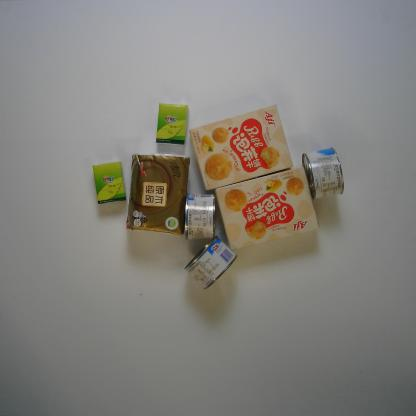Canned Food: (184, 235, 240, 291), (302, 145, 345, 202), (182, 191, 216, 242)
Dessert: (190, 103, 294, 193), (214, 164, 322, 250)
Tissue: (124, 153, 192, 236), (154, 102, 192, 147), (92, 160, 126, 206)
